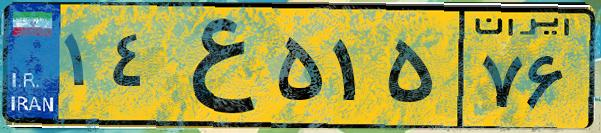1: (330, 28, 385, 110), (57, 26, 110, 100)
4: (110, 28, 158, 98)
5: (270, 28, 330, 110), (385, 28, 445, 110)
6: (525, 38, 570, 115)
7: (475, 38, 525, 113)
ع: (158, 12, 270, 120)
